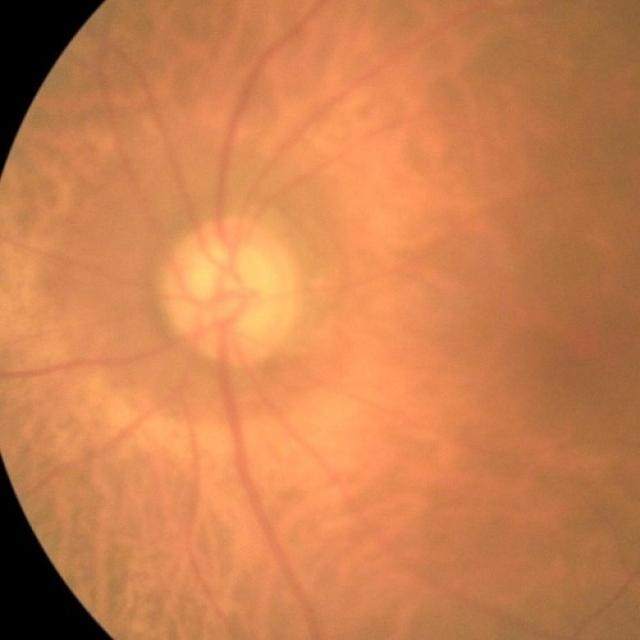OC: (184, 242, 274, 330)
OD: (164, 217, 297, 364)
